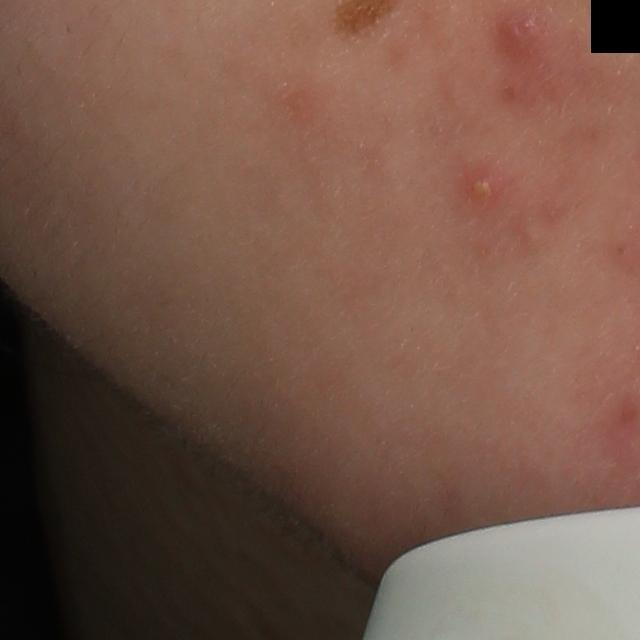papule: (494, 4, 555, 66)
pustule: (460, 165, 508, 216)
